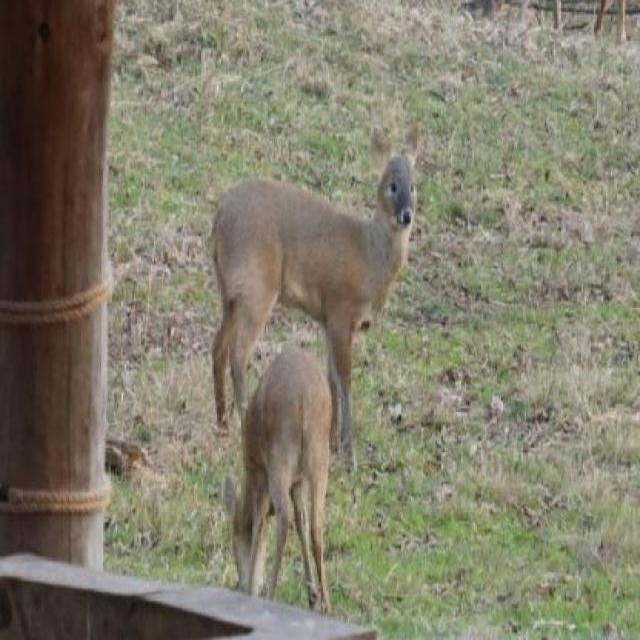deer: (206, 112, 429, 465), (222, 348, 342, 609)
